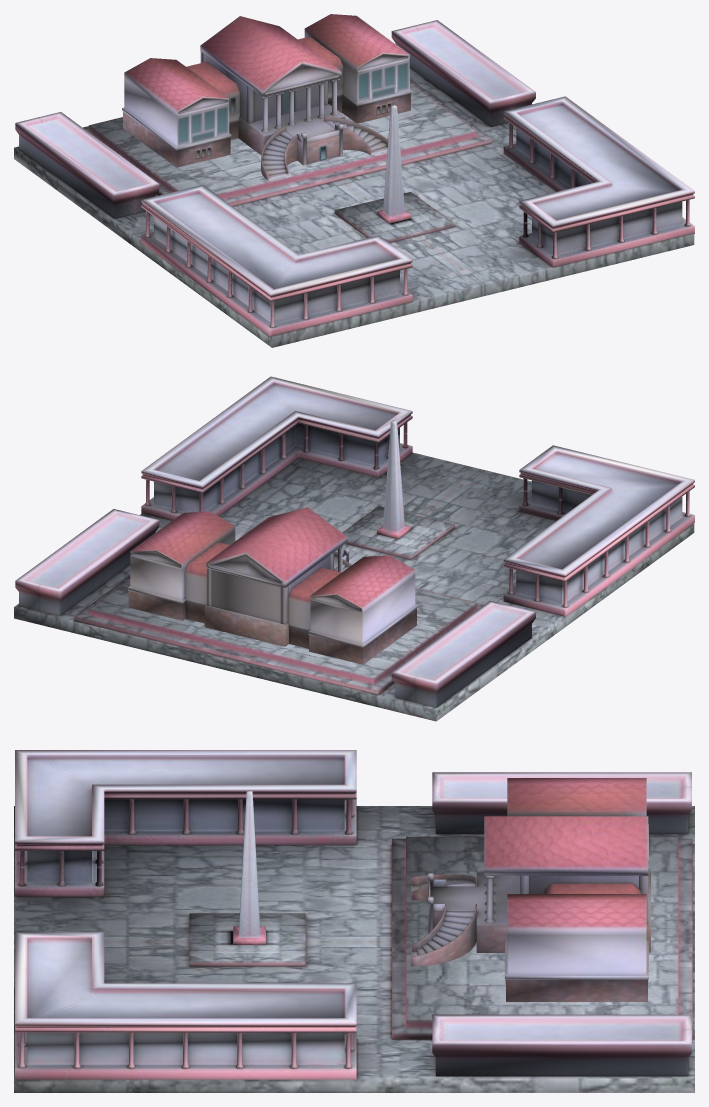
Rendered from GreatLibrary.glb.
3 renders of one model, top to bottom at view 1: azimuth 30°, elevation 25°; view 2: azimuth 150°, elevation 25°; view 3: azimuth 270°, elevation 25°, orthographic. The views are drawn at different scales.
Parts seen in each view (by area): view 1: Cube.044; view 2: Cube.044; view 3: Cube.044.
Boxes of the visible parts, <box> form: Cube.044: <box>14,14,694,347</box>; Cube.044: <box>14,376,694,721</box>; Cube.044: <box>14,750,694,1092</box>.
Size of the model in its own units: 11.12 by 3.13 by 11.72.
Materials: 2 (2 with a texture image).
